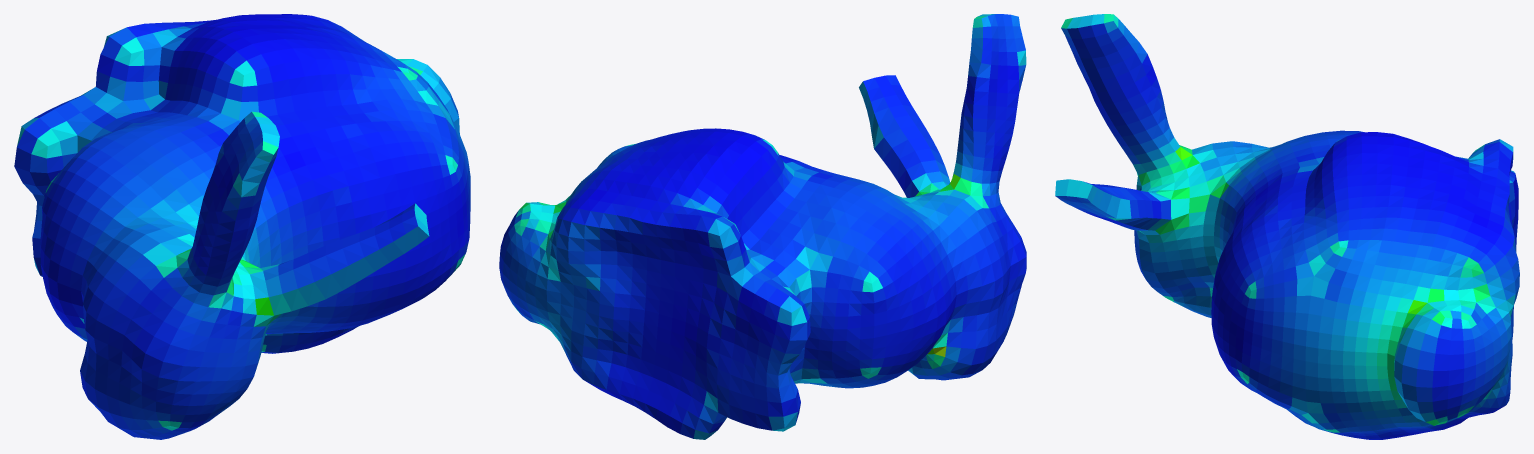
Rendered from bunny_opt_quality.obj.
3 renders of one model, left to right at view 1: azimuth 30°, elevation 25°; view 2: azimuth 150°, elevation 25°; view 3: azimuth 270°, elevation 25°, orthographic. The views are drawn at different scales.
Size of the model in its own units: 62.05 by 47.53 by 60.
